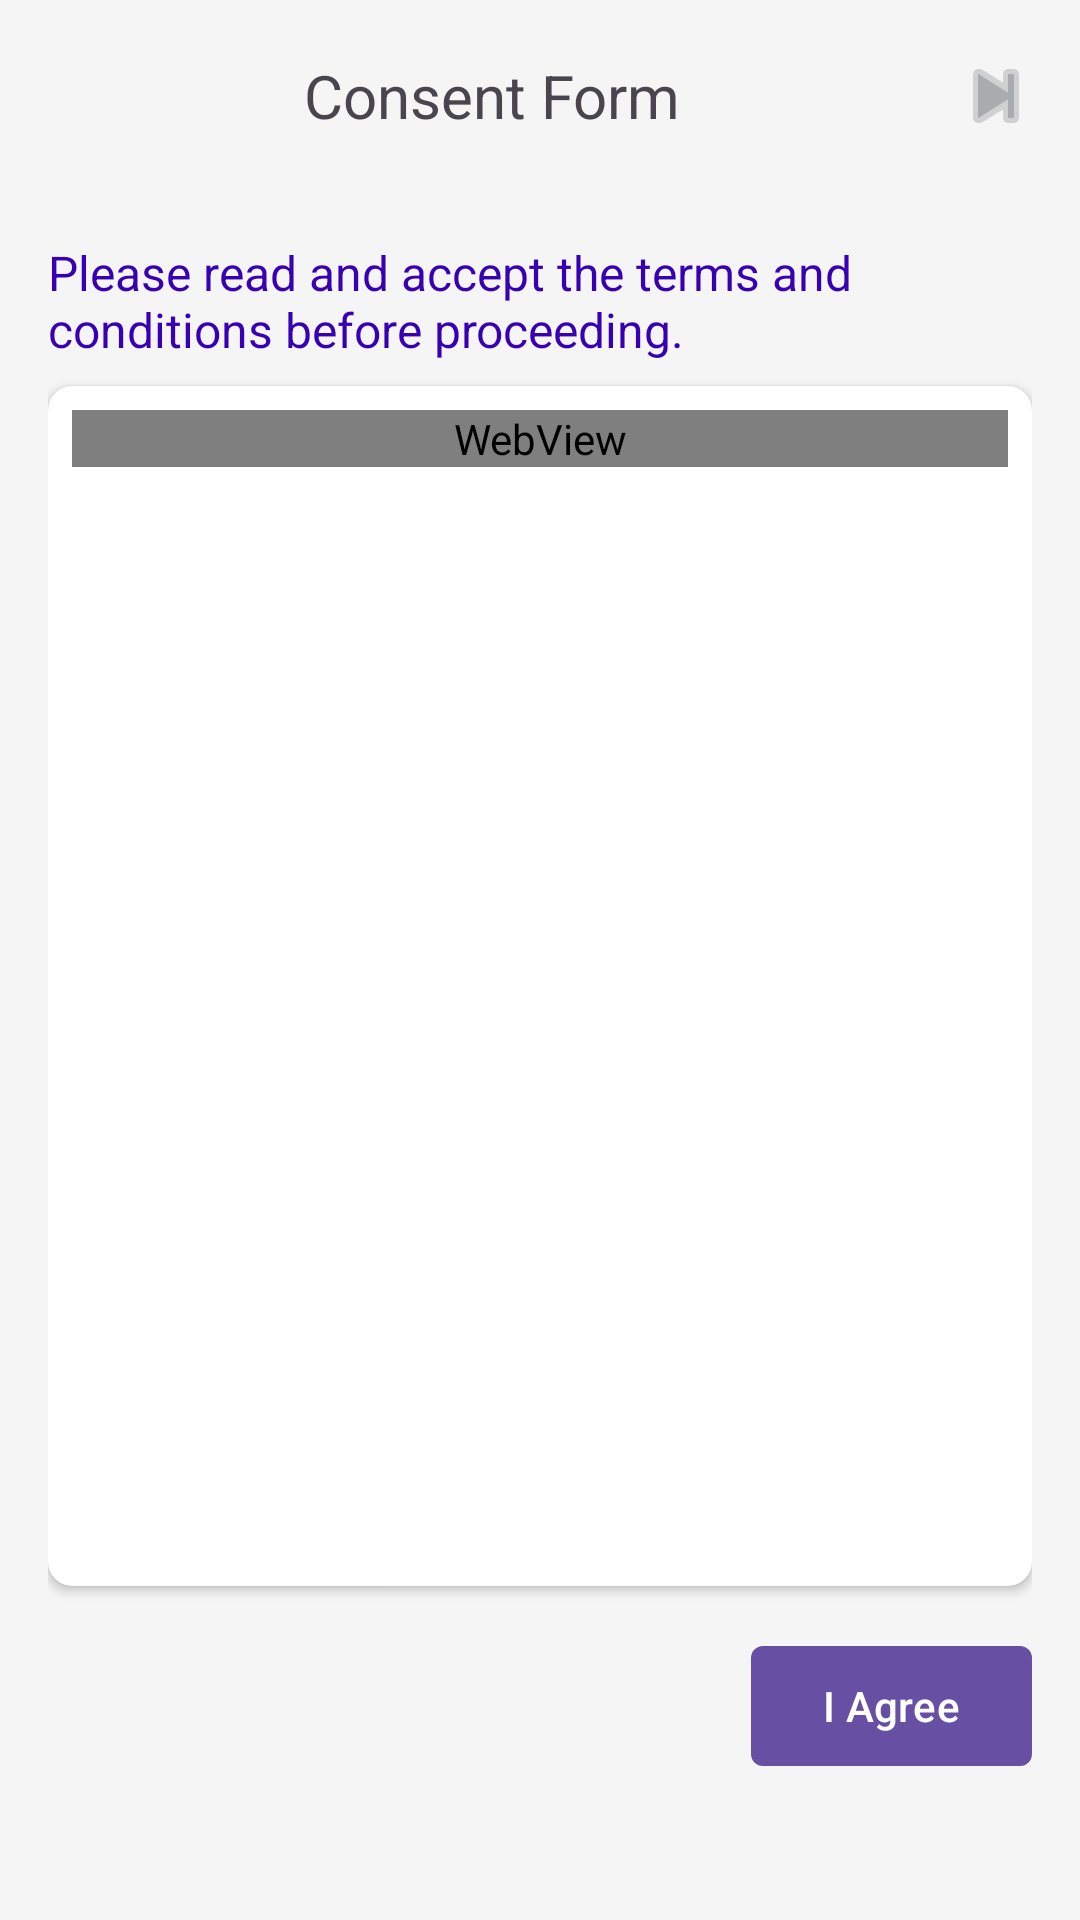

Screen size 1080w x 1920h. Icon name, then its center in pixels as [x,y]:
Forward: [996,96]
